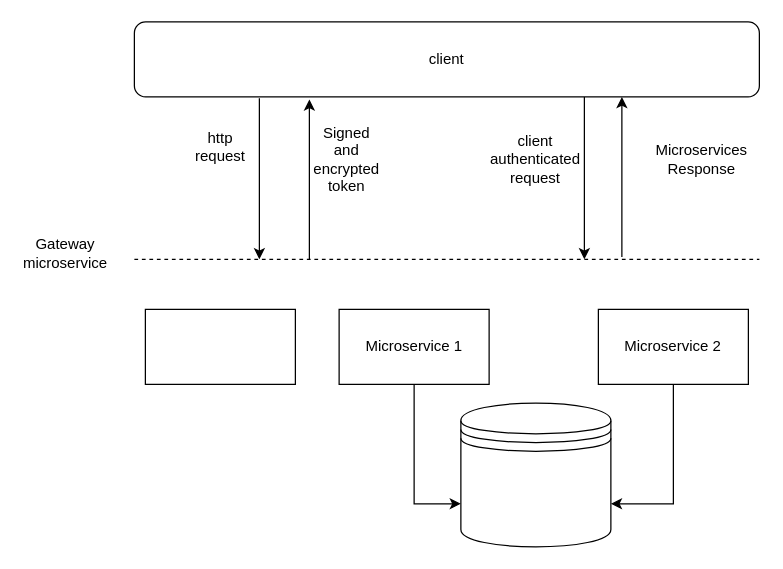
Image size: 783x569. Some labels were removed from this diagram. The shapes that lost their labels are listed below. From the top down, each one's box as (x1, y1, x2, y2) in pixels, then its label:
(144, 308, 295, 384): Auth Microservice
(460, 402, 611, 547): shared database on docker container
